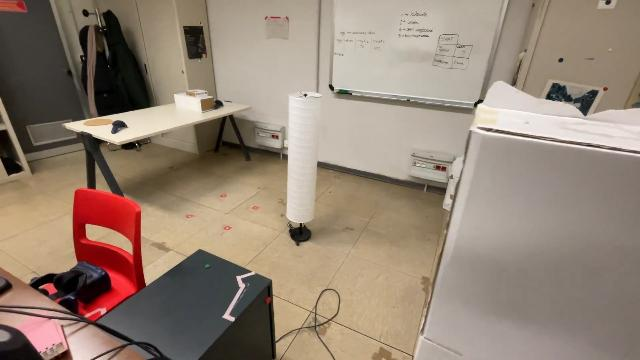Chair: (25, 185, 149, 328)
Lamp: (284, 89, 324, 249)
